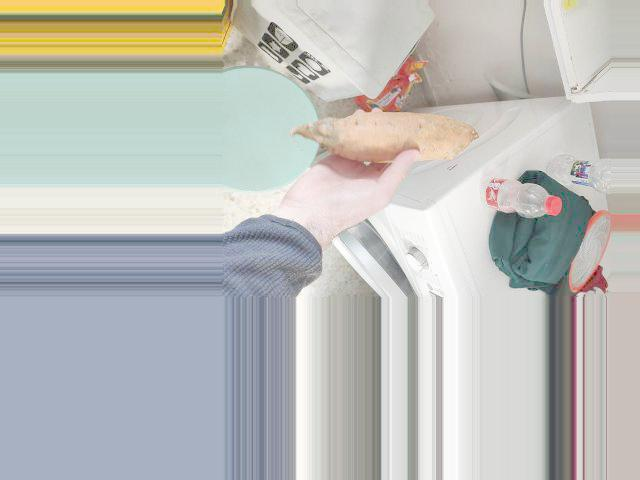sweet_potato: (314, 115, 473, 157)
